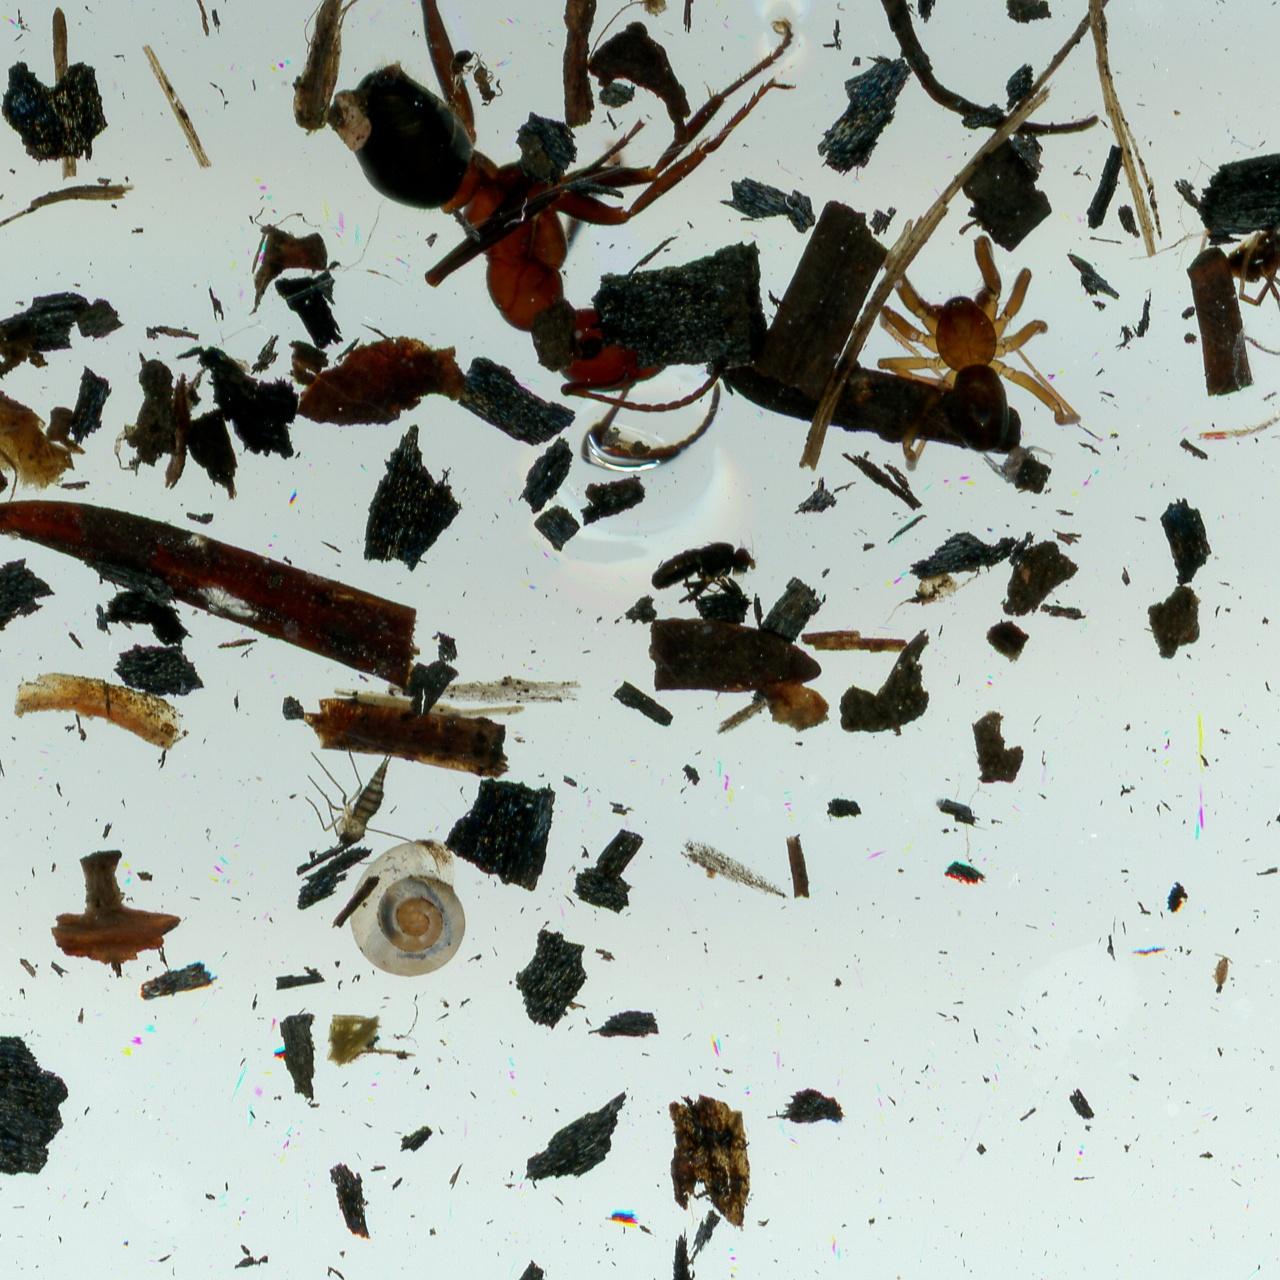arthropod: (329, 0, 799, 468), (880, 230, 1088, 472), (1130, 191, 1280, 445), (285, 730, 440, 879), (346, 835, 471, 979), (635, 517, 772, 615), (979, 443, 1061, 491), (467, 50, 508, 109)
